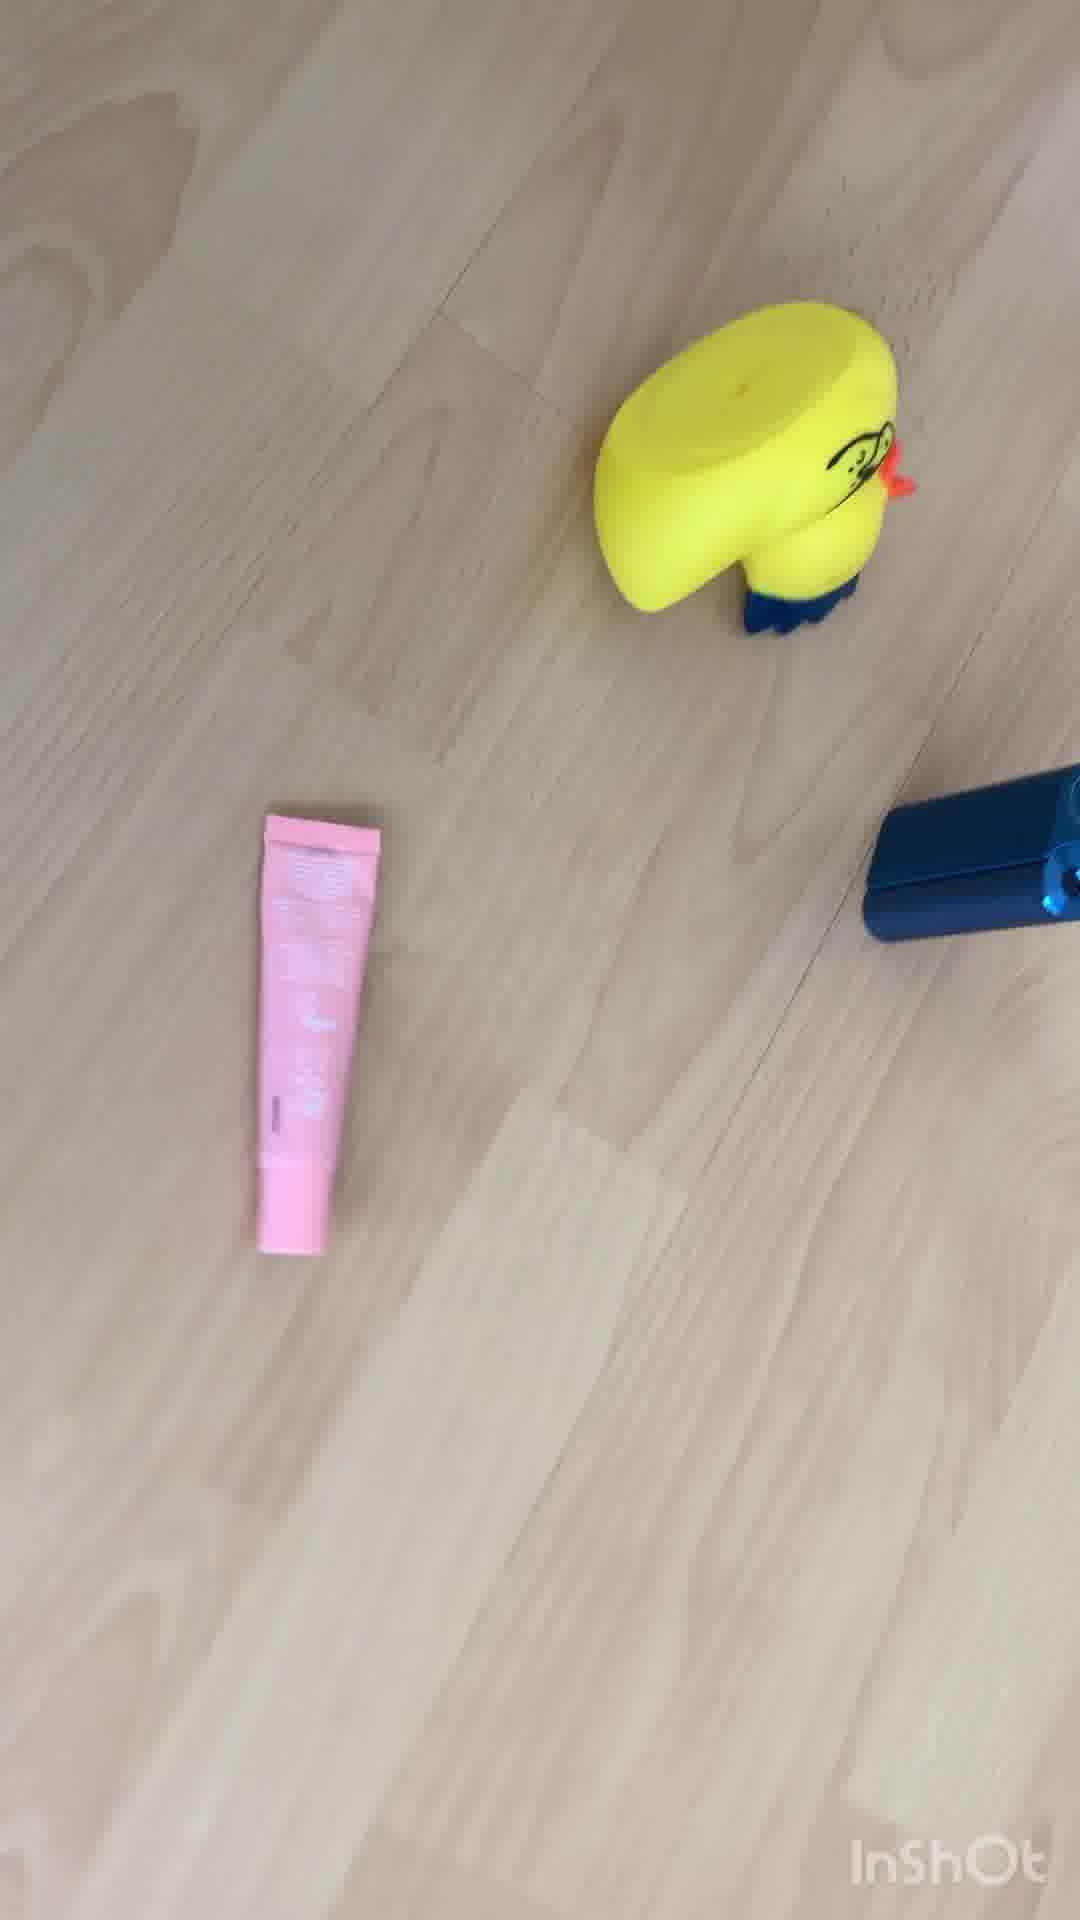duck: (597, 293, 923, 641)
glo: (856, 736, 1080, 953)
lip balm: (247, 803, 390, 1265)
